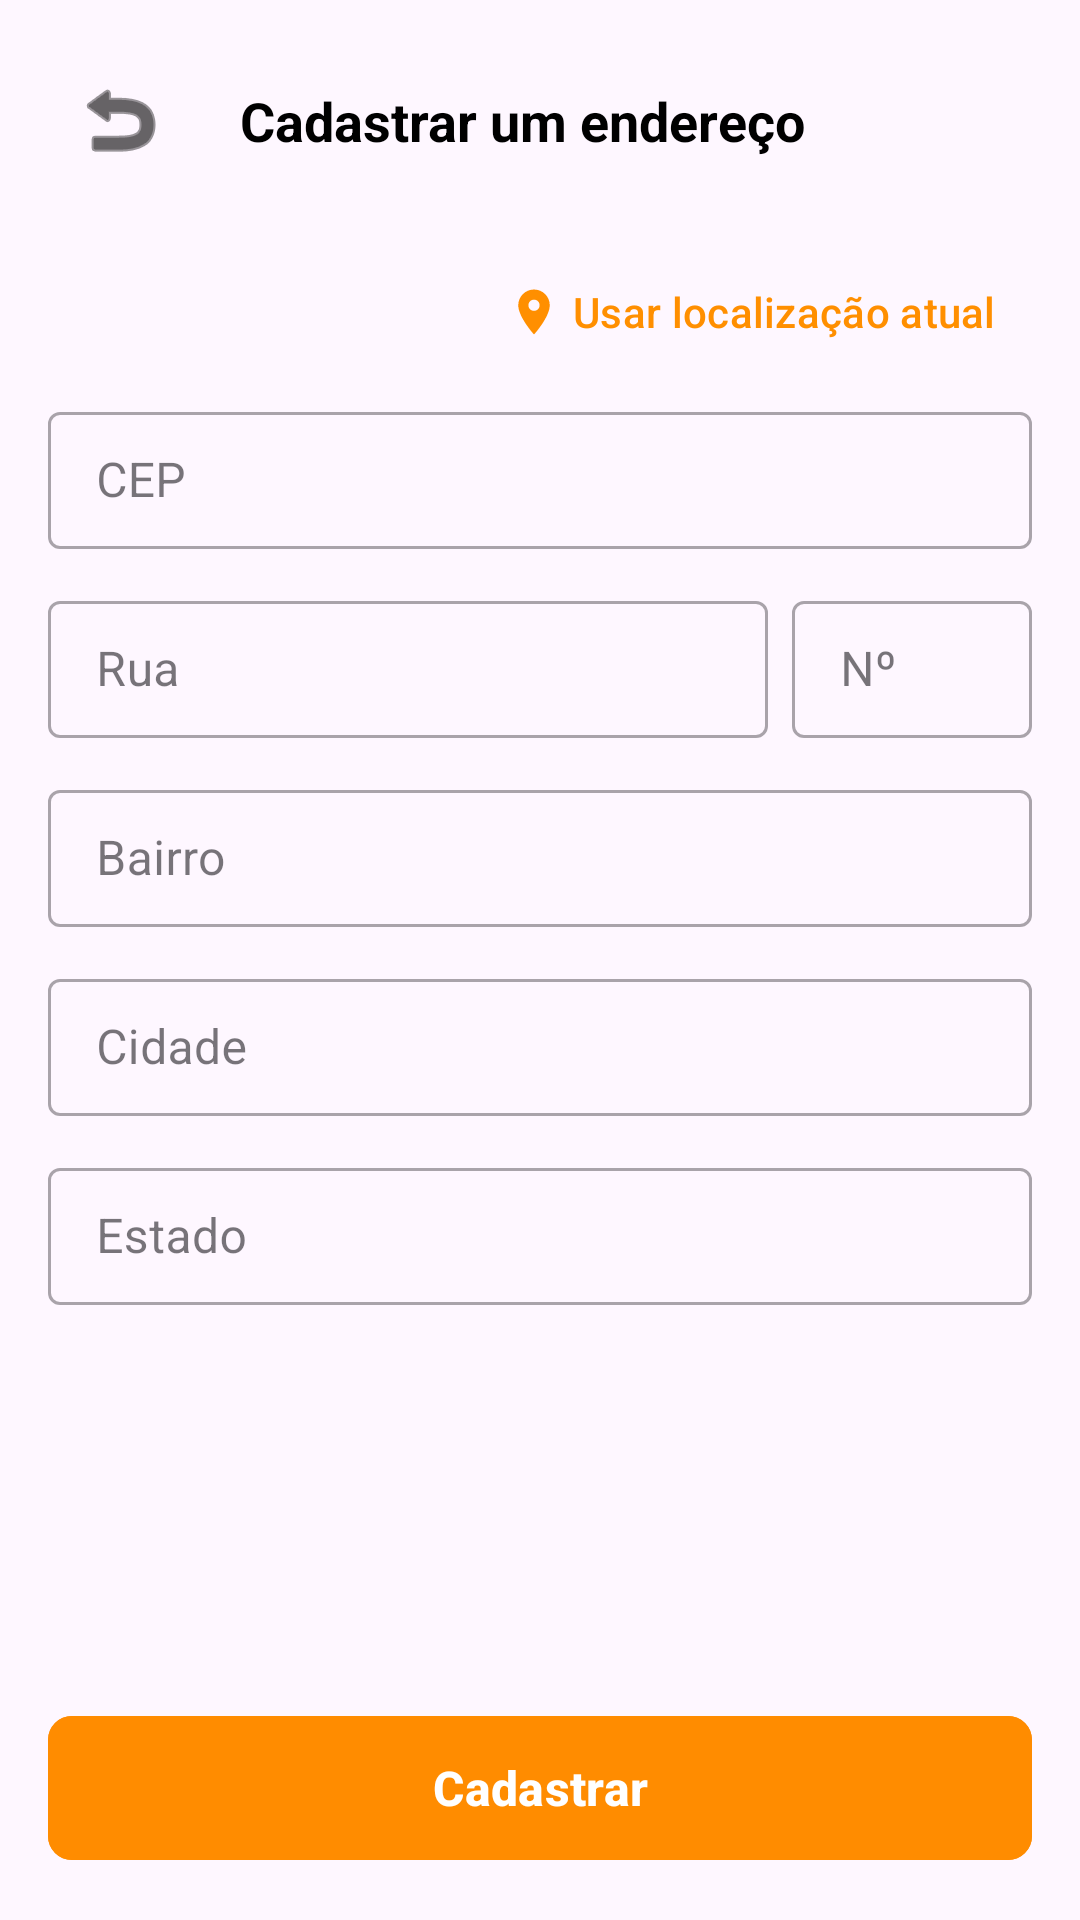

Icon click points for this 1080×1920 phone screenshot, format point (x, y):
Voltar: point (121, 120)
